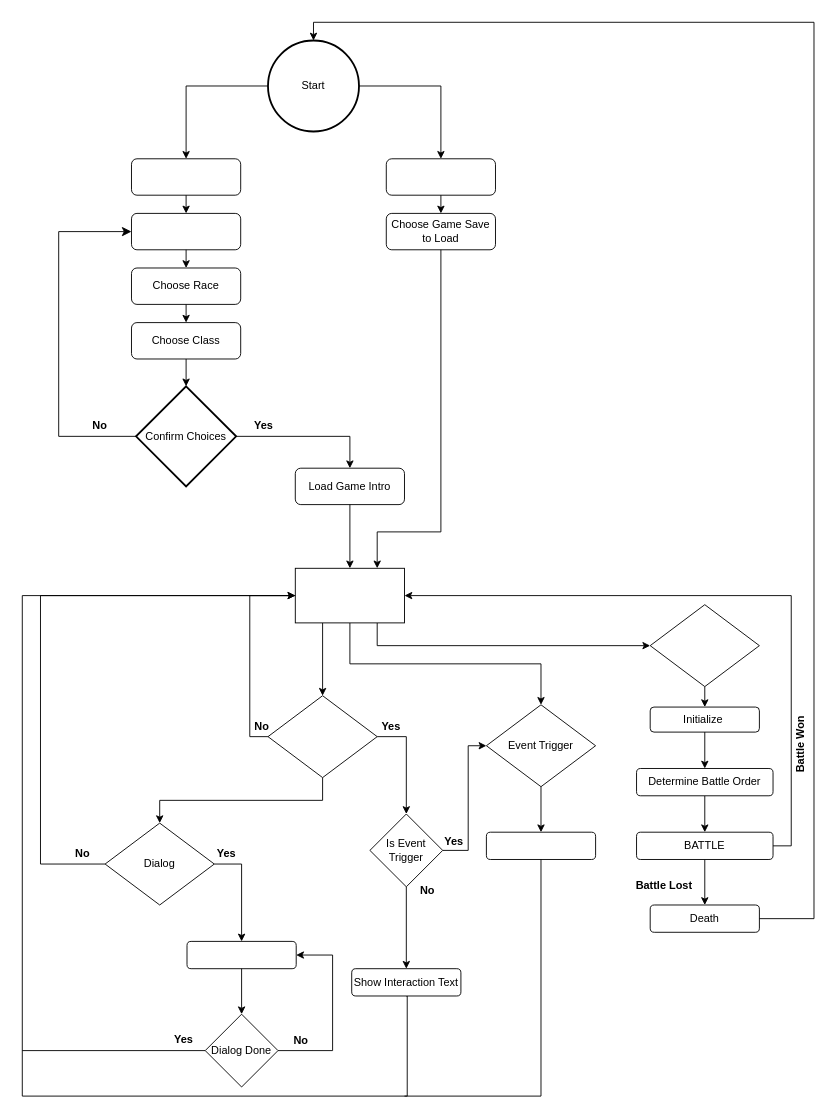
Some shapes in this 837 by 1119 pixel diagram are drawn without their labels. The centre of each missing label's shape, as x and y in pixels:
Choose Name: (186,231)
Combat: (704,645)
Dialog Q&A: (241,954)
Environmental Interactions: (322,736)
Load Game: (440,176)
Navigate/Interact: (349,595)
New Game: (186,176)
Trigger Event: (540,845)
